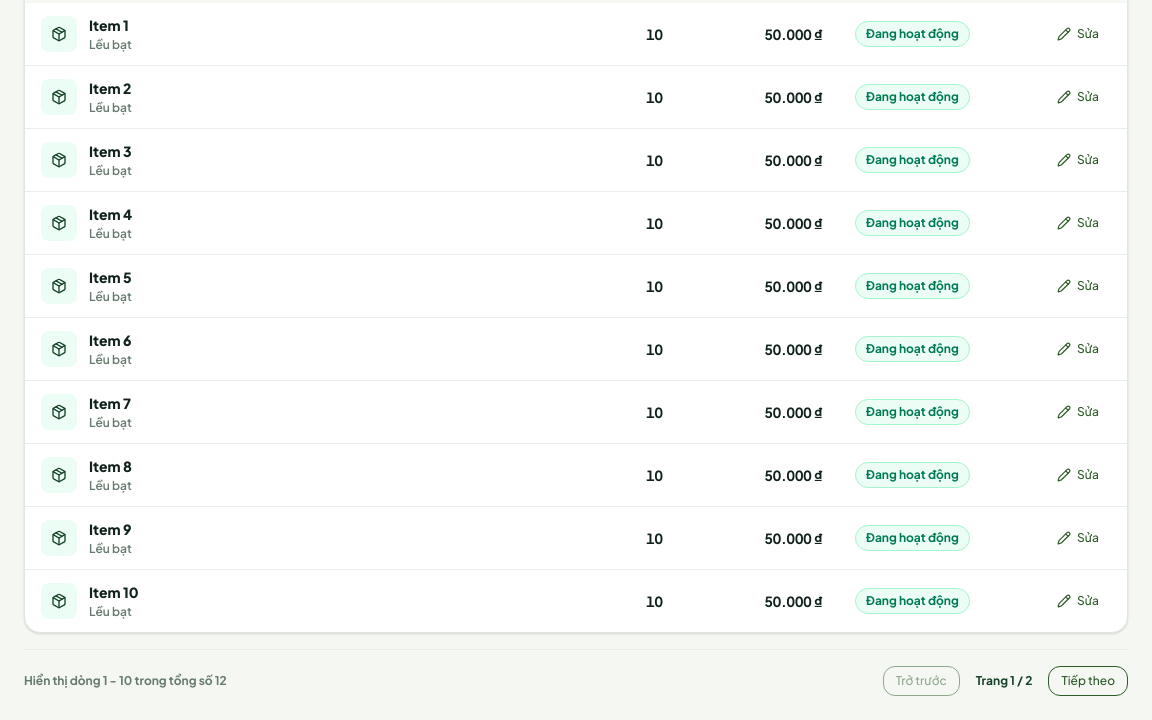
EquipmentCatalogPage › paginates the table with the shared Pagination component
(page scrolled)
Expected: the text "Item 10" is shown, [89, 582, 139, 602]
Expected: the text "Item 11" is not shown
Click the button "Tiếp theo": [1088, 681] box [1048, 666, 1128, 696]
(page scrolled)
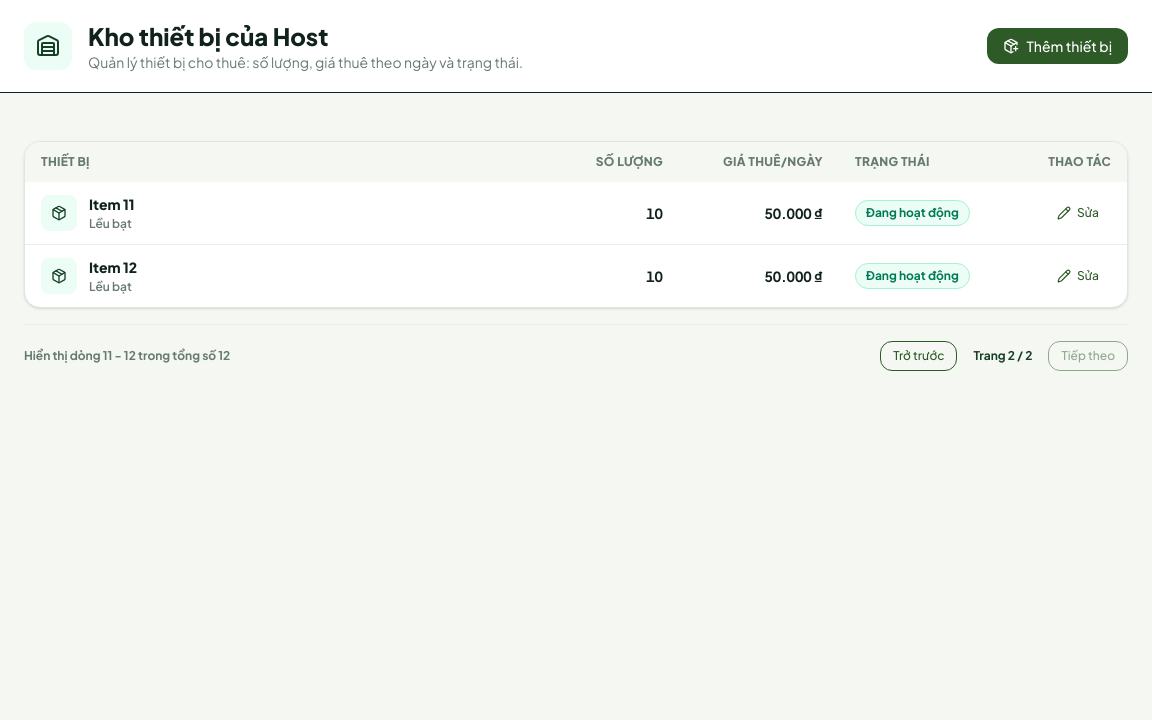
Expected: the text "Item 11" is shown, [89, 194, 135, 214]
